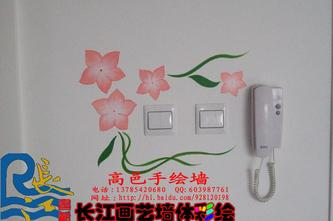switch: (146, 110, 174, 131), (198, 109, 225, 130)
